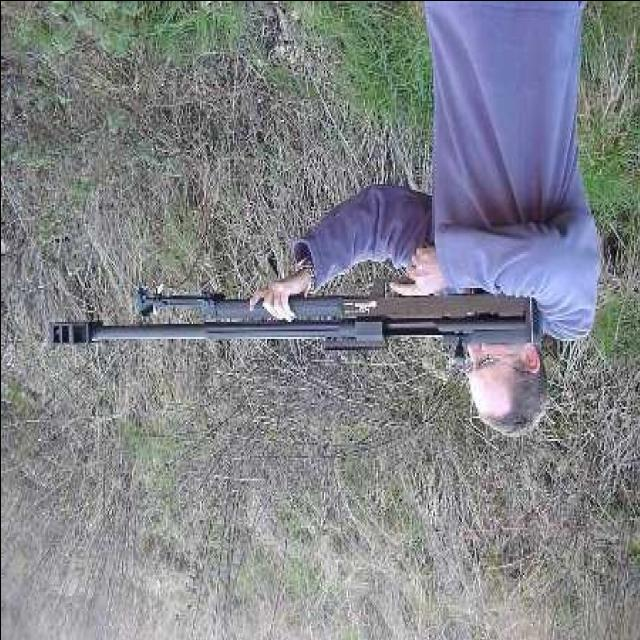heavyweapon: (35, 226, 540, 381)
